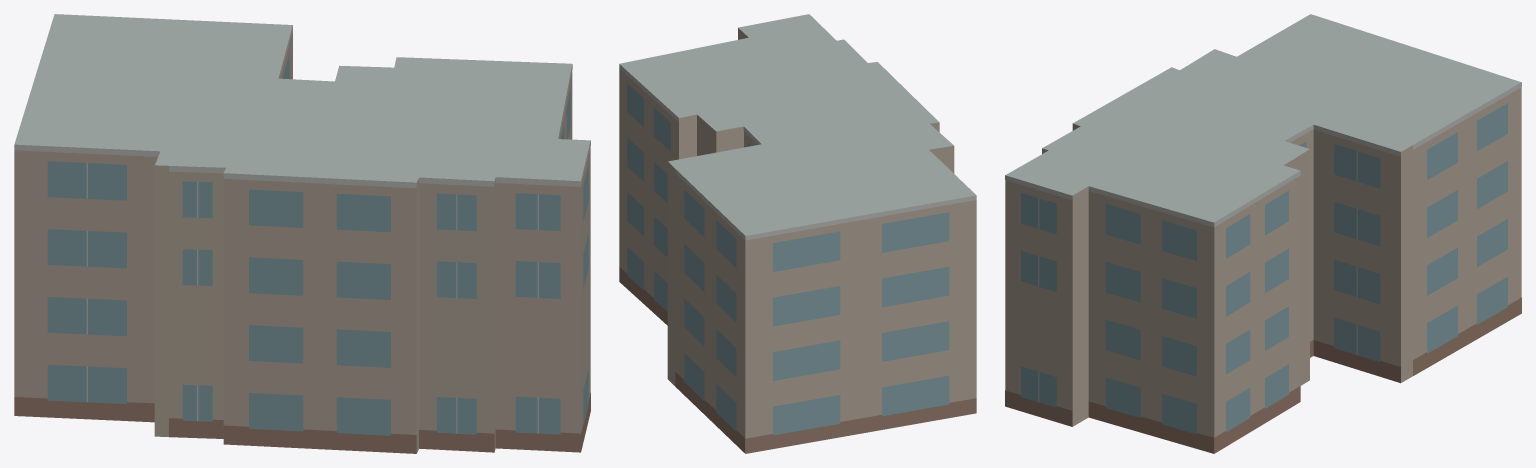
File: survey-upis-32709979.glb
3 renders of one model, left to right at view 1: azimuth 30°, elevation 25°; view 2: azimuth 150°, elevation 25°; view 3: azimuth 270°, elevation 25°, orthographic. The views are drawn at different scales.
Visible parts, largest first — view 1: survey-upis-32709979.tmp; view 2: survey-upis-32709979.tmp; view 3: survey-upis-32709979.tmp.
Boxes of the visible parts, bbox=[...] form: survey-upis-32709979.tmp: bbox=[14, 14, 590, 453]; survey-upis-32709979.tmp: bbox=[619, 14, 976, 453]; survey-upis-32709979.tmp: bbox=[1005, 14, 1521, 453].
Bounding box in the file's own units: 22.61 × 11.68 × 23.65.
